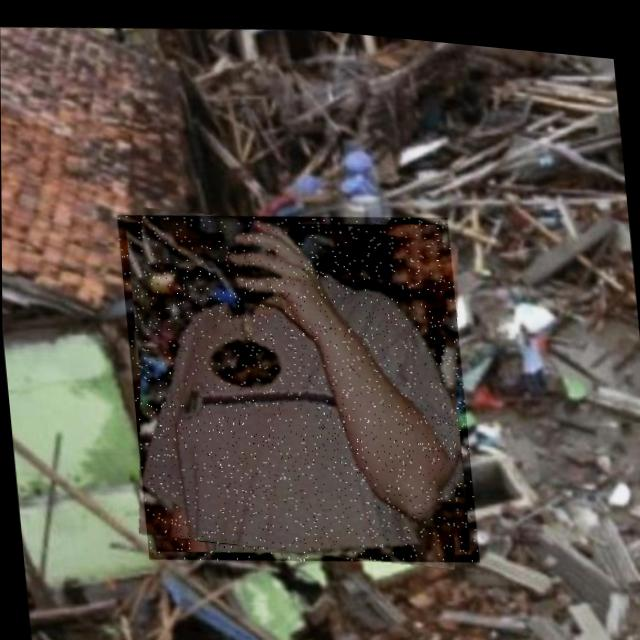Person in Rubble: (116, 183, 479, 582)
